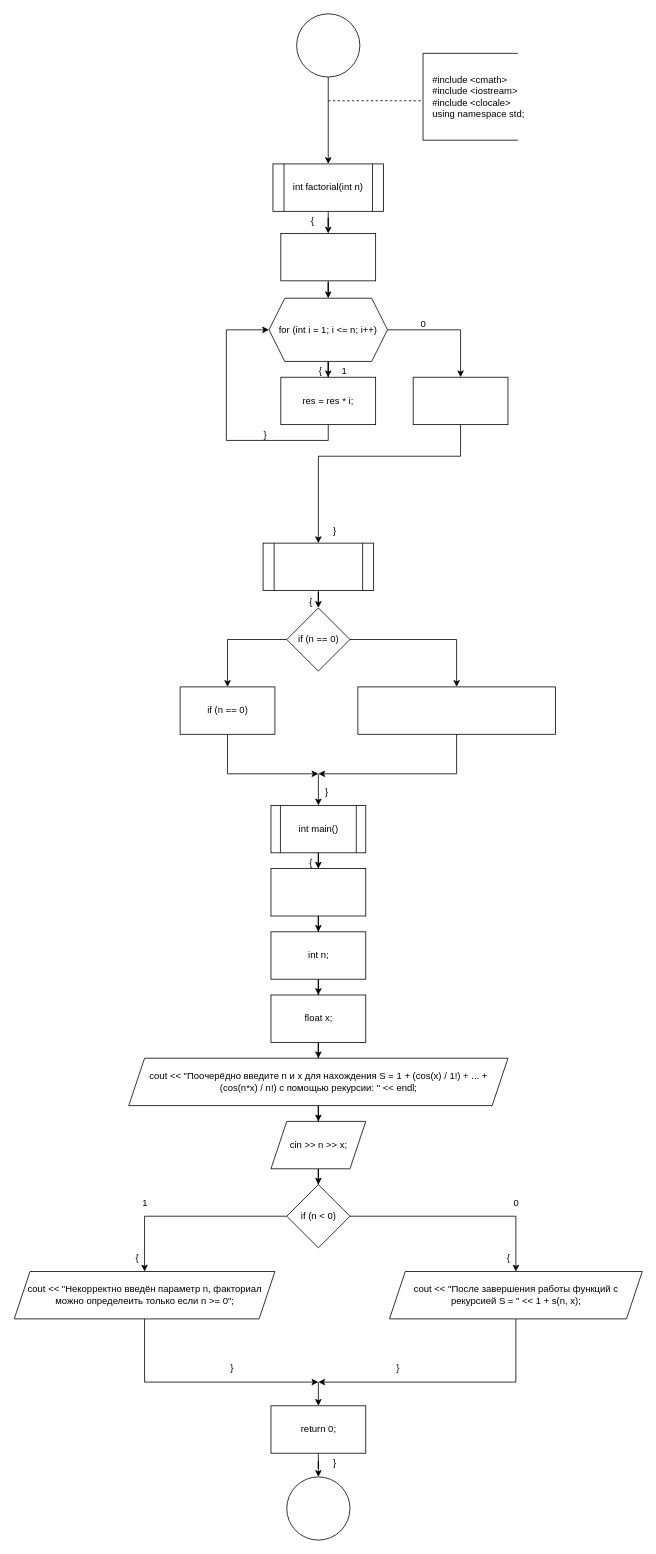
This 656x1554 diagram has some shape labels left out. Each missing label, with the centre of its shape:
float s(int n, float x): [318,566]
int res = 1;: [328,257]
return (cos(n * x) / factorial(n)) + s(n - 1, x);: [456,710]
return res;: [460,400]
setlocale(LC_ALL, "RU");: [318,892]
Конец: [318,1508]
Начало: [328,45]
